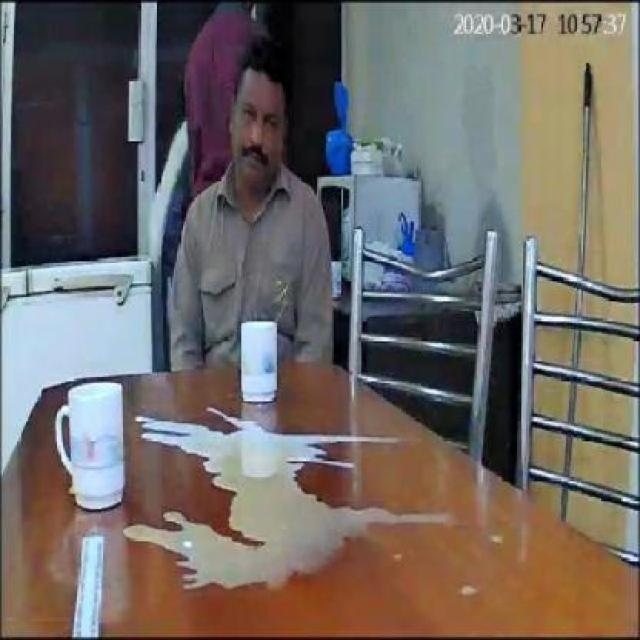spillage: (123, 417, 452, 590)
